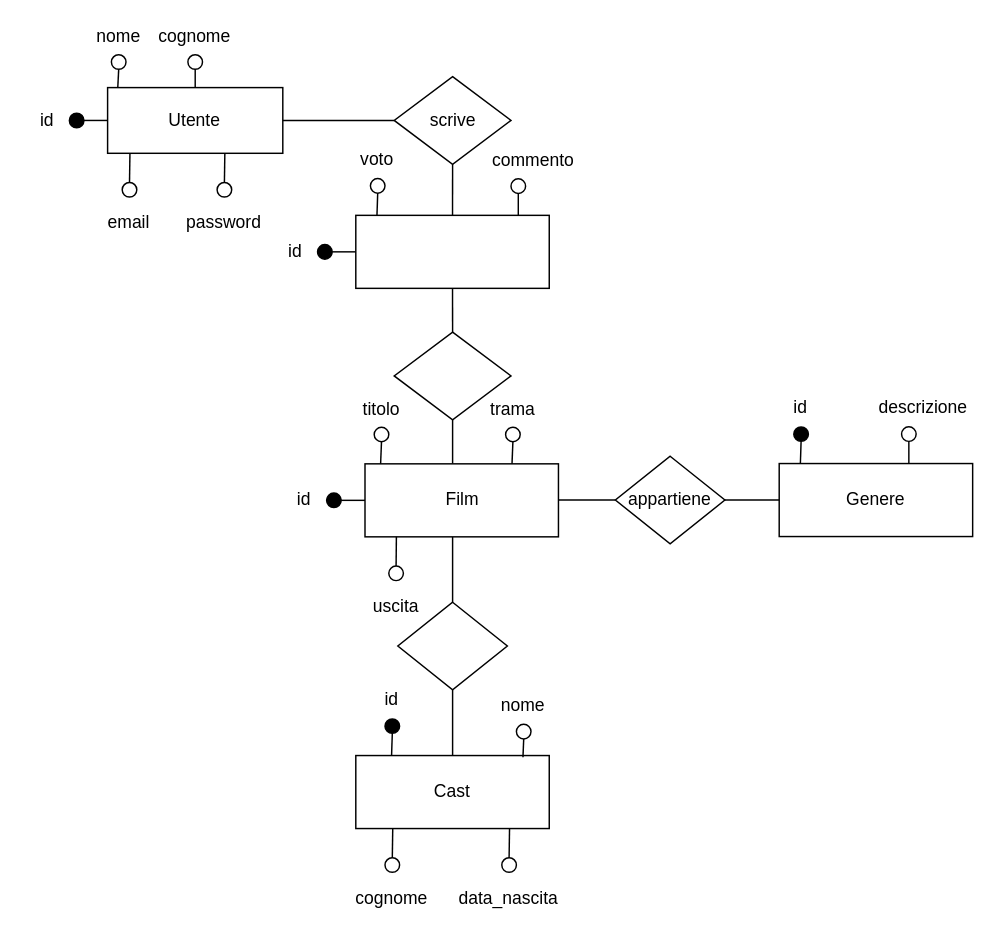
This 999x933 diagram has some shape labels left out. Here are the shapes that lost their labels. From the top down, the centre of each, then its label:
(x=451, y=251): Recensione
(x=452, y=375): riceve
(x=451, y=645): collabora
